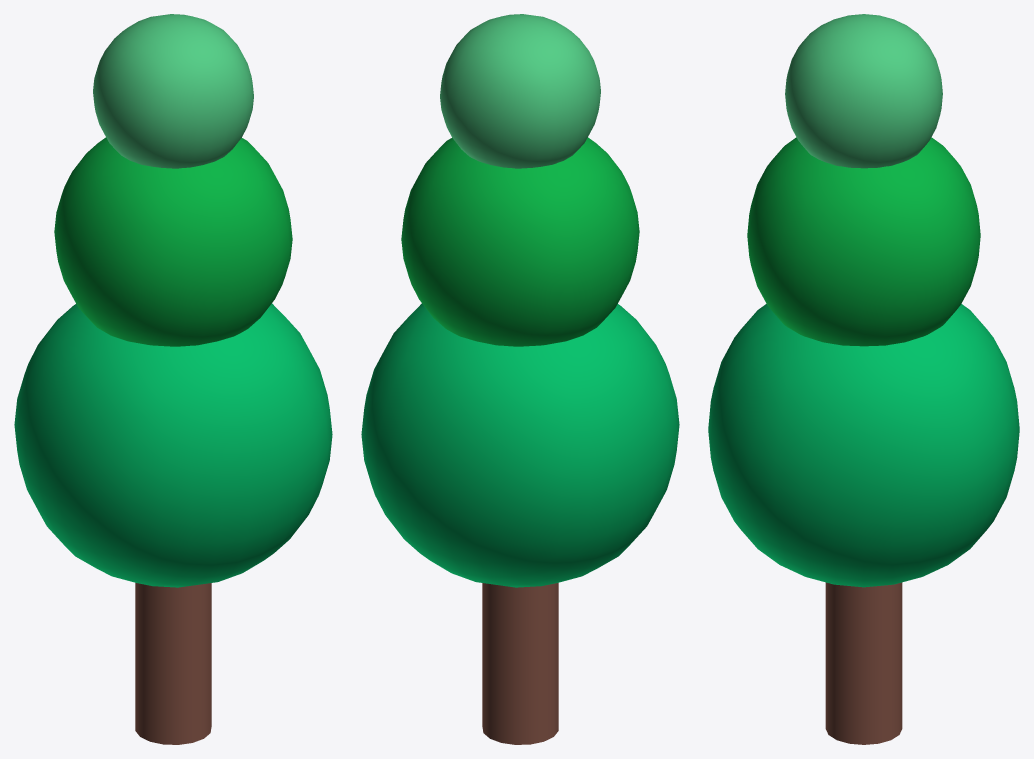
Rendered from City_10_Tree_3.glb.
The picture shows the model from 3 angles, left to right: view 1: azimuth 30°, elevation 25°; view 2: azimuth 150°, elevation 25°; view 3: azimuth 270°, elevation 25°; orthographic projection.
Parts seen in each view (by area): view 1: City_10_Tree_3; view 2: City_10_Tree_3; view 3: City_10_Tree_3.
Boxes of the visible parts, x1,y1,x2,y2 form: City_10_Tree_3: (14,14,332,744); City_10_Tree_3: (361,14,679,744); City_10_Tree_3: (708,14,1019,744).
Size of the model in its own units: 2.23 by 5.59 by 2.23.
Materials: 1 (1 with a texture image).
